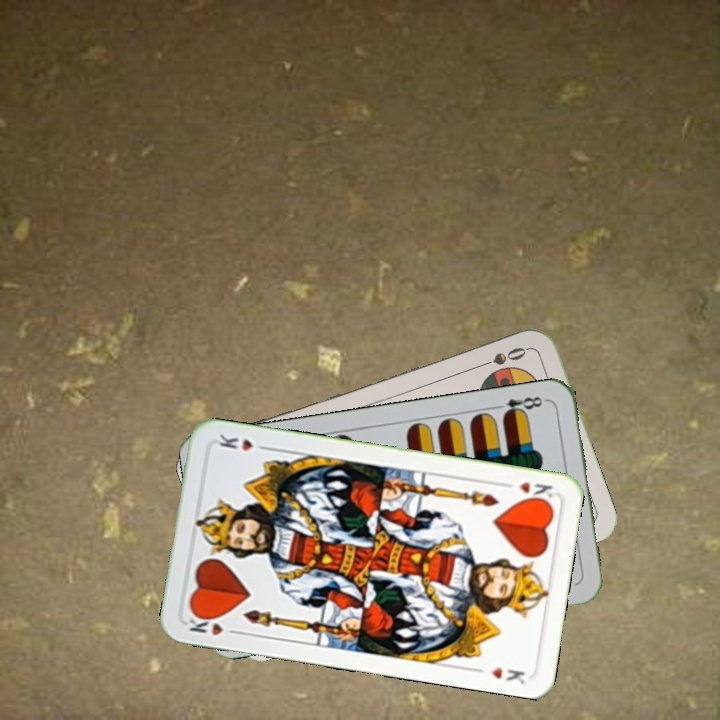E8: (490, 392, 550, 421)
HK: (183, 610, 242, 638), (499, 478, 556, 505)
SO: (473, 343, 530, 371)
